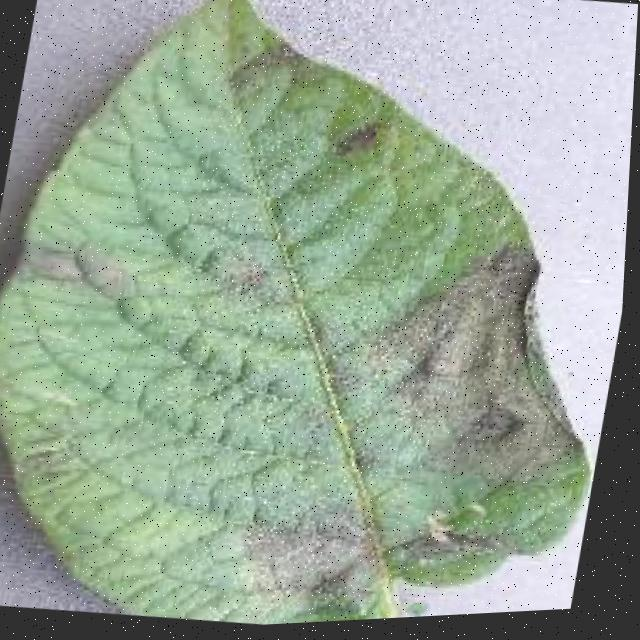Late_blight: (312, 201, 606, 524), (217, 491, 409, 627), (0, 200, 139, 319), (213, 22, 315, 104), (318, 103, 400, 182)
